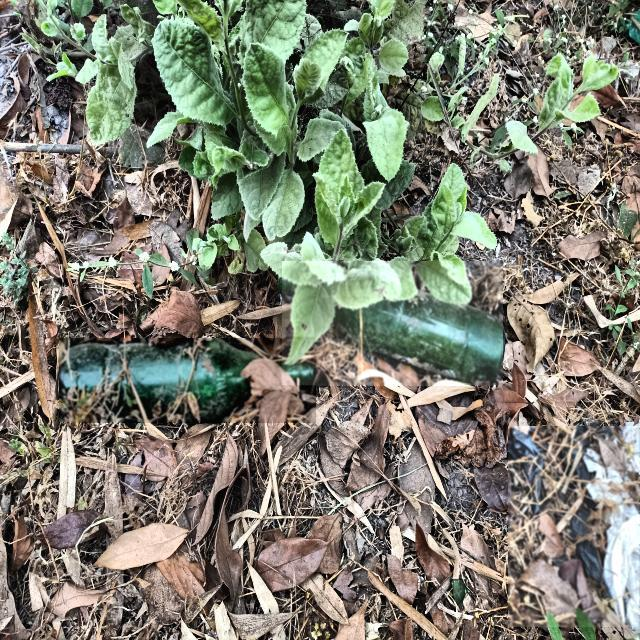anorganik: (282, 262, 503, 385), (509, 427, 640, 627), (59, 338, 316, 422)
